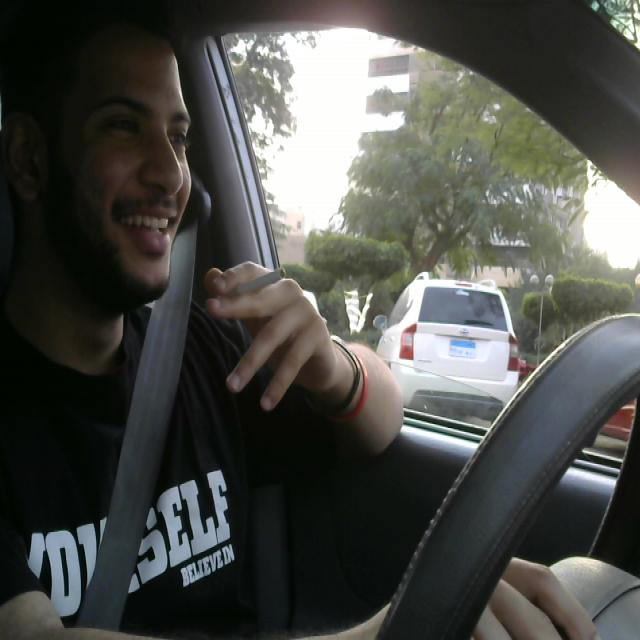smoking: (219, 264, 292, 302)
